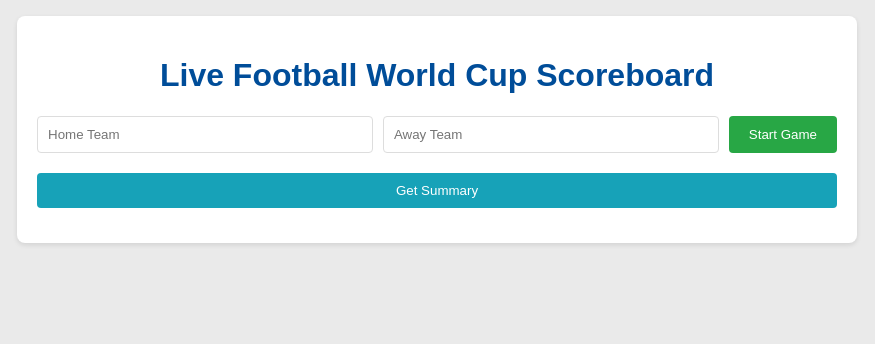
Test: Scoreboard › starts a new game on form submission
This screenshot has width=875, height=344.
Type "Home" into the field with placeholder "Home Team".
click(205, 134); type("Home")  # box [37, 116, 373, 153]
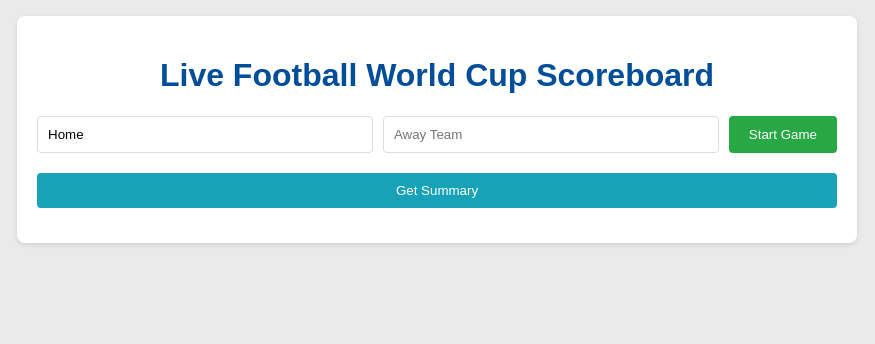
Type "Away" into the field with placeholder "Away Team".
click(551, 134); type("Away")  # box [383, 116, 719, 153]
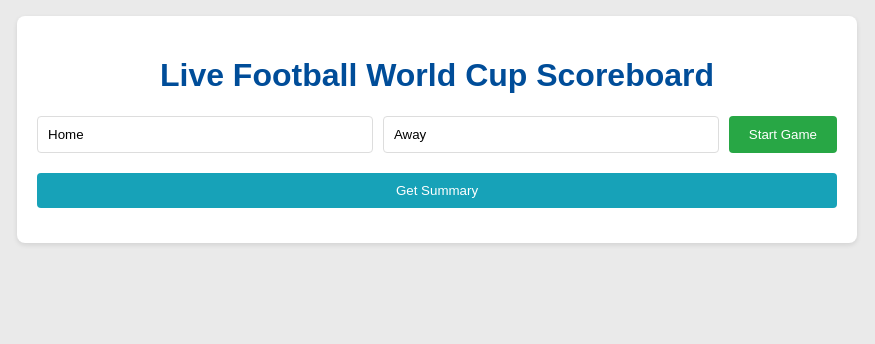
Click the button "Start Game".
click(783, 134)  # box [729, 116, 837, 153]
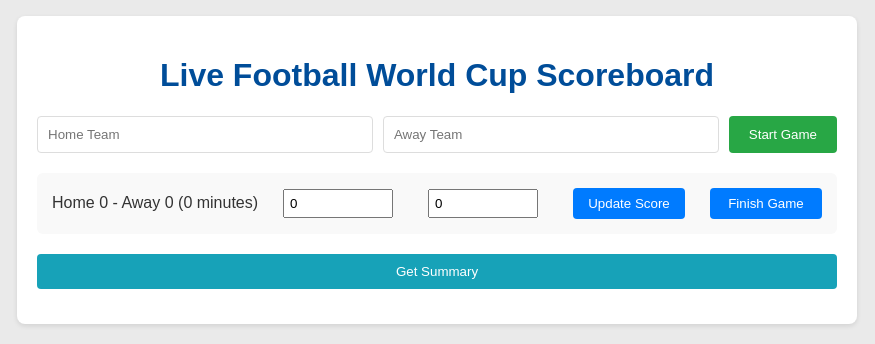
Now the text "Home 0 - Away 0 (0 minutes)" is shown, box [52, 194, 258, 212]
